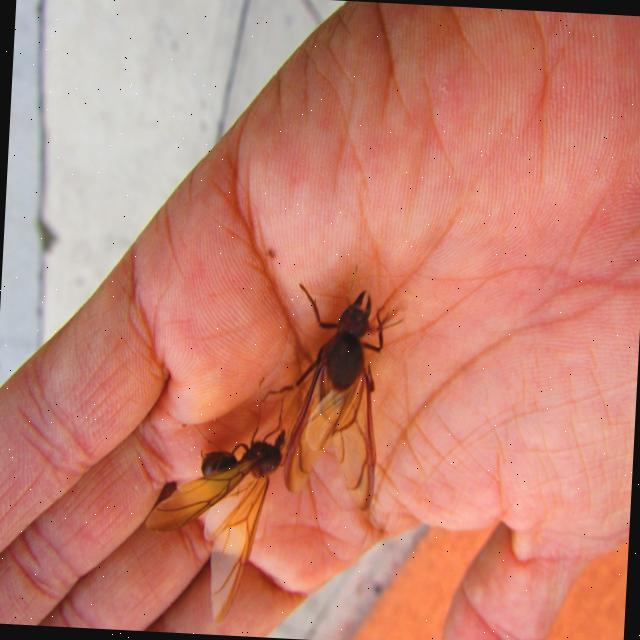Alive-Female-Alate: (253, 259, 408, 514)
Alive-Male-Alate: (137, 372, 296, 632)
